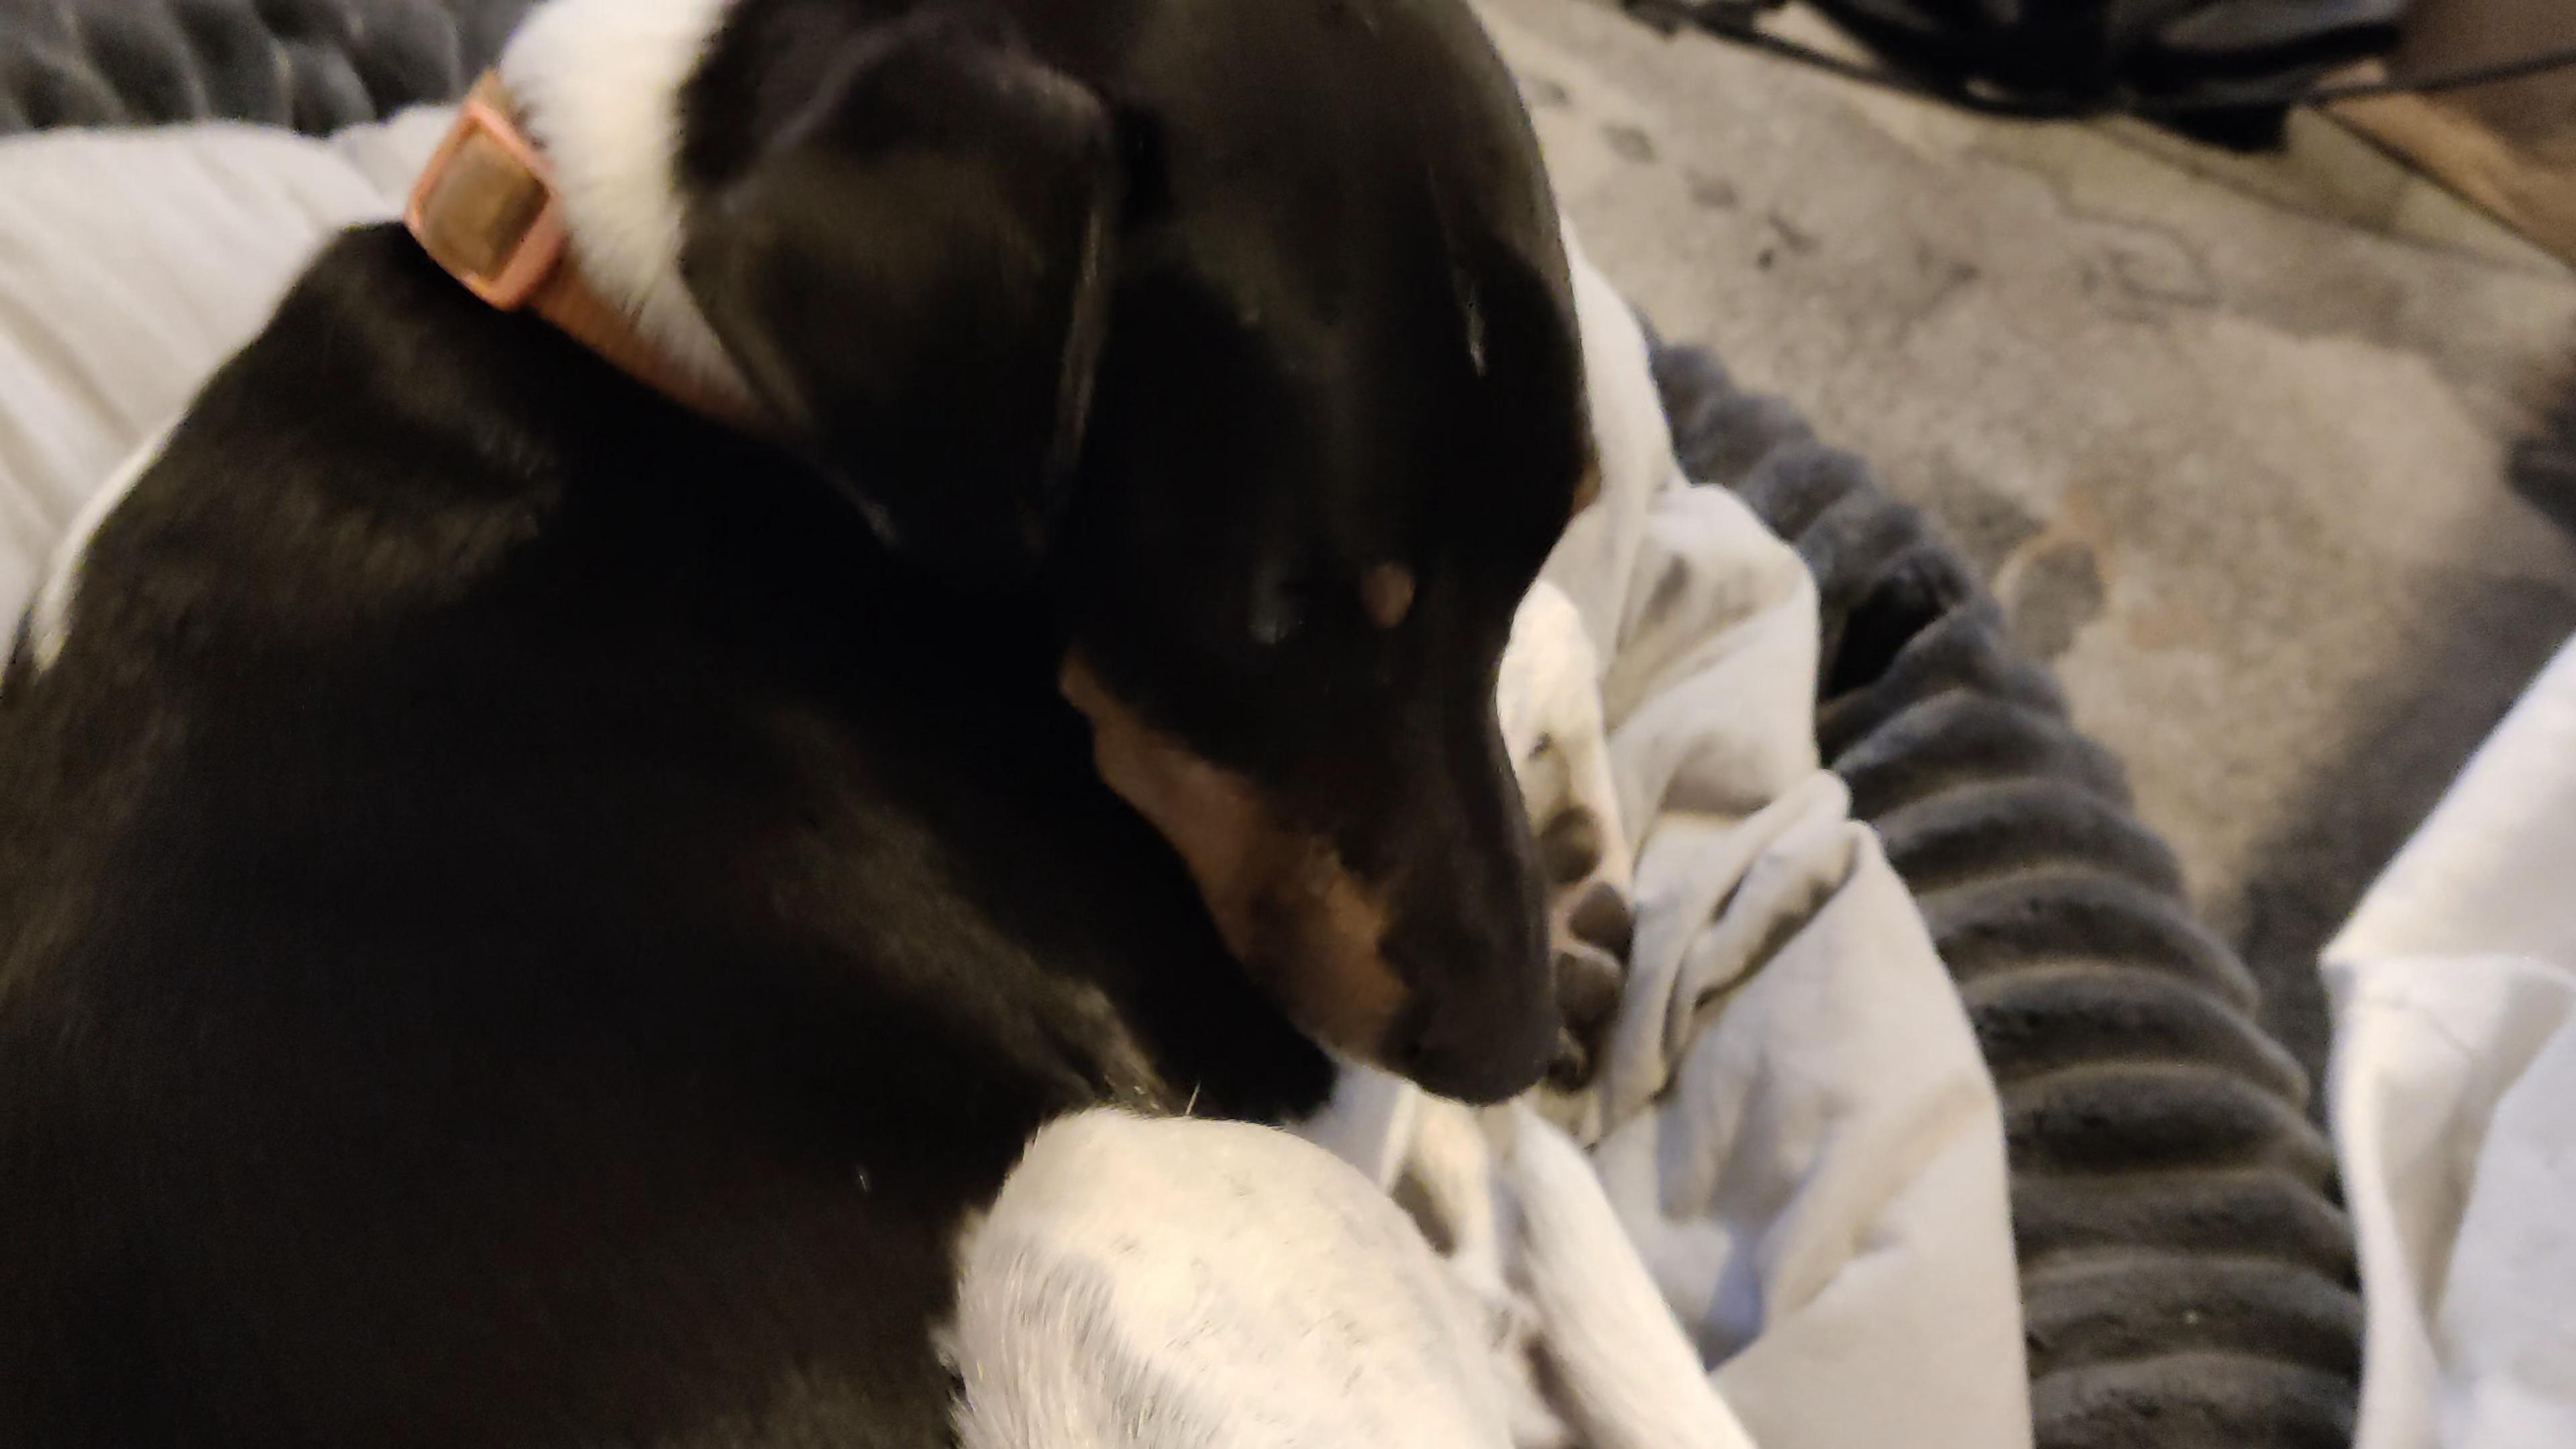Dog: (0, 0, 1773, 1449)
